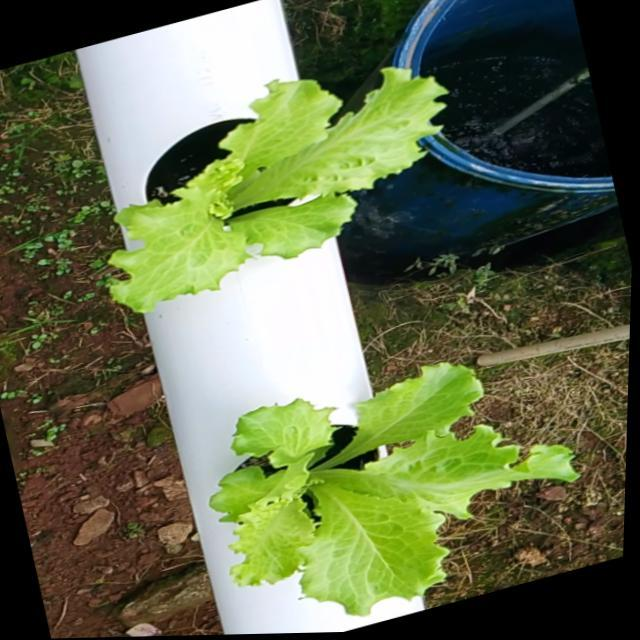Baby: (210, 358, 579, 612), (107, 58, 447, 304)
